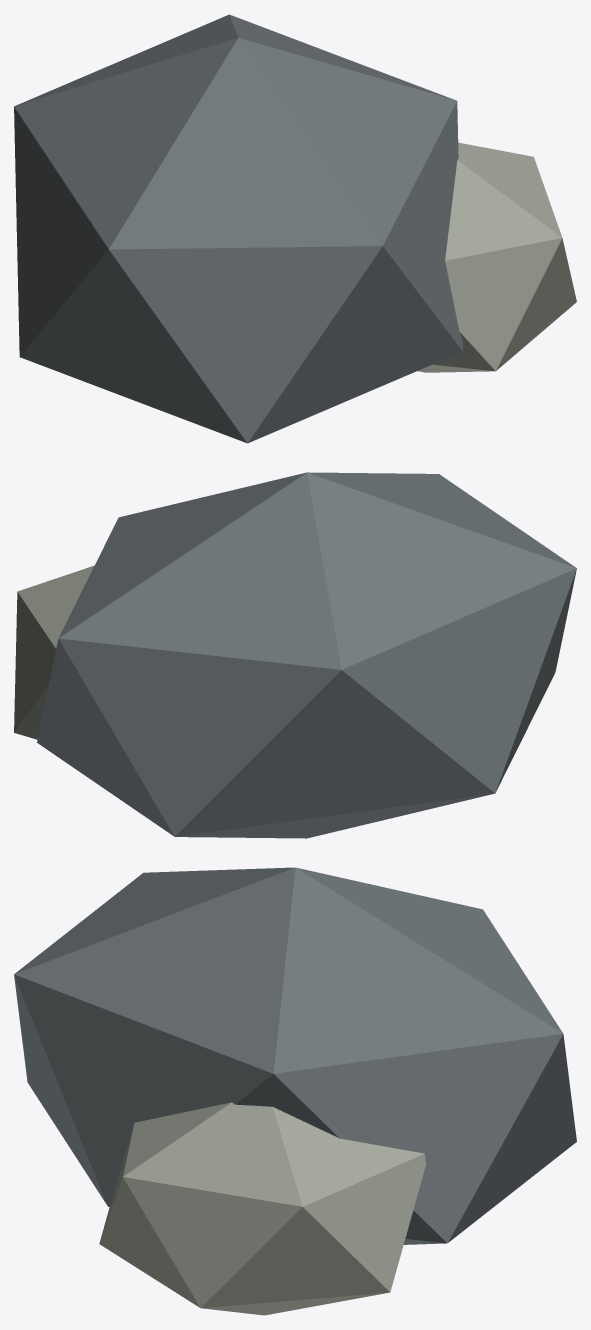
Rendered from Boulder_A.fbx.
3 renders of one model, top to bottom at view 1: azimuth 30°, elevation 25°; view 2: azimuth 150°, elevation 25°; view 3: azimuth 270°, elevation 25°, orthographic. The views are drawn at different scales.
Parts seen in each view (by area): view 1: Boulder_A; view 2: Boulder_A; view 3: Boulder_A.
Boxes of the visible parts, left/top/right/bottom form: Boulder_A: left=14, top=14, right=576, bottom=443; Boulder_A: left=14, top=472, right=576, bottom=838; Boulder_A: left=14, top=867, right=576, bottom=1315.
Size of the model in its own units: 1.53 by 1.1 by 1.47.
1 material, 1 textured.
